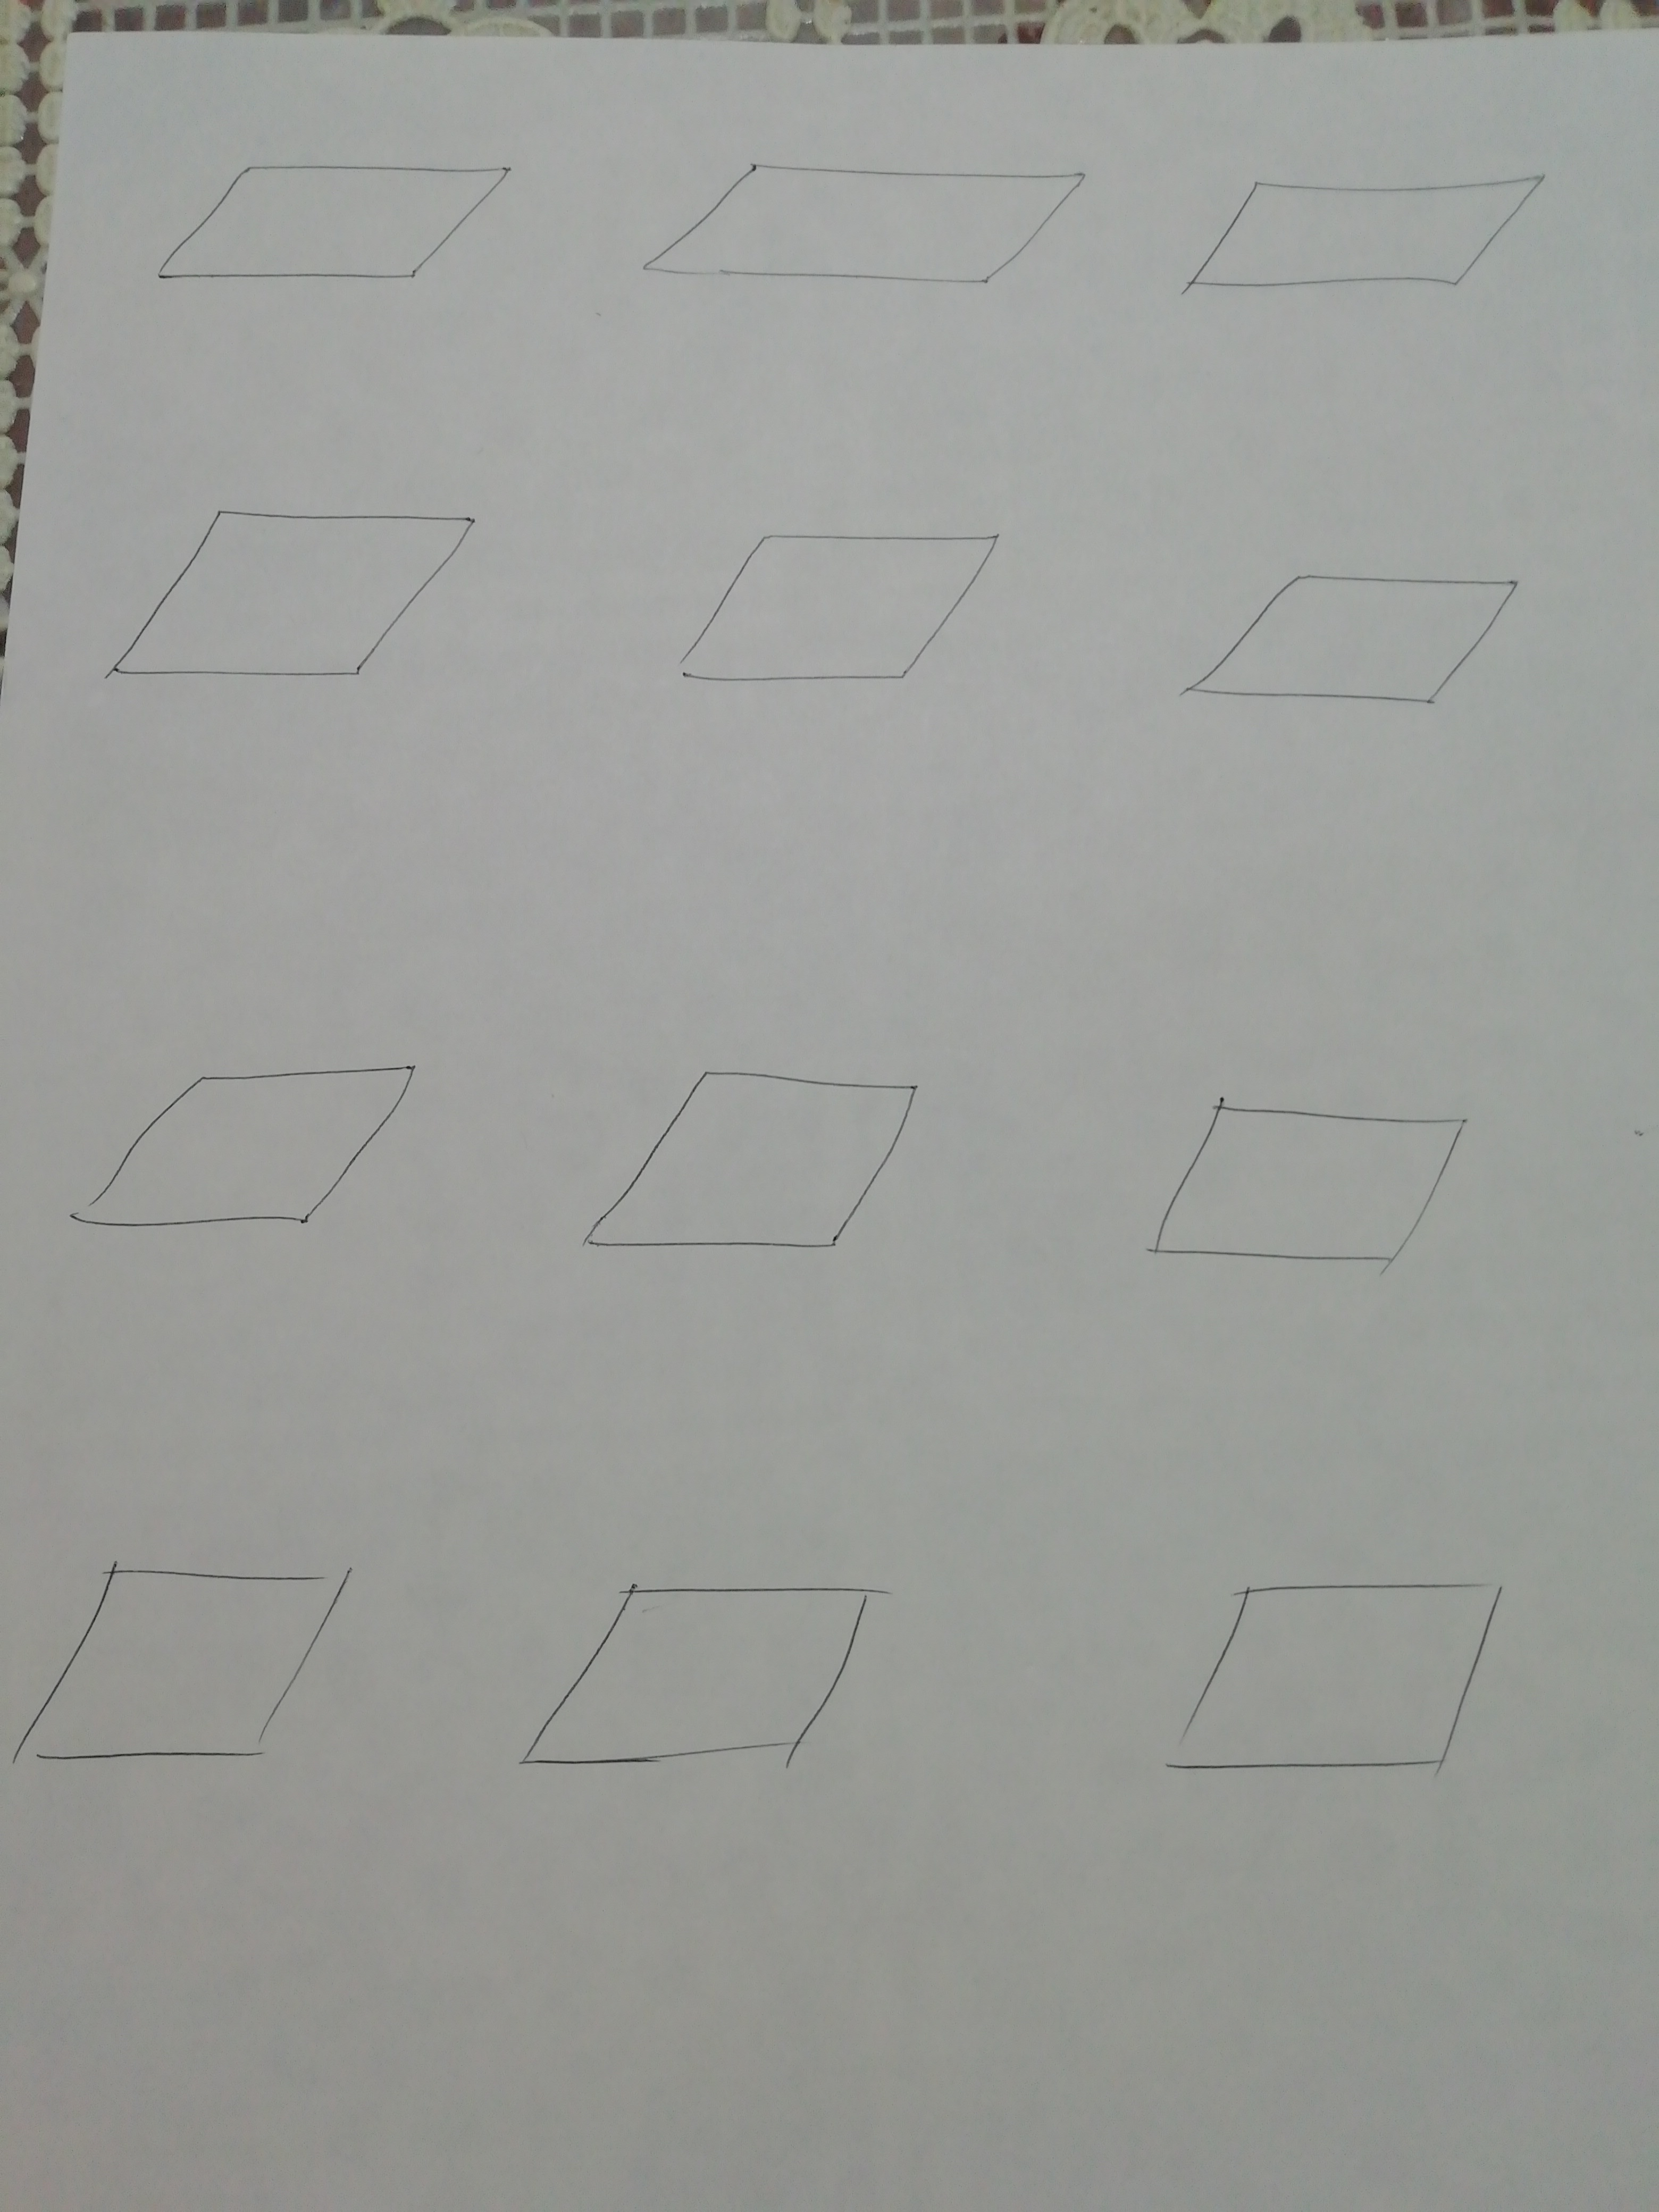scan: (59, 446, 537, 730), (544, 1042, 976, 1339), (481, 1548, 938, 1815), (1075, 1055, 1523, 1322), (44, 1031, 462, 1312), (601, 120, 1112, 347), (1150, 1552, 1544, 1825), (619, 486, 1040, 733), (0, 1548, 389, 1808), (1143, 538, 1575, 756), (118, 134, 537, 350), (1154, 141, 1582, 326)
